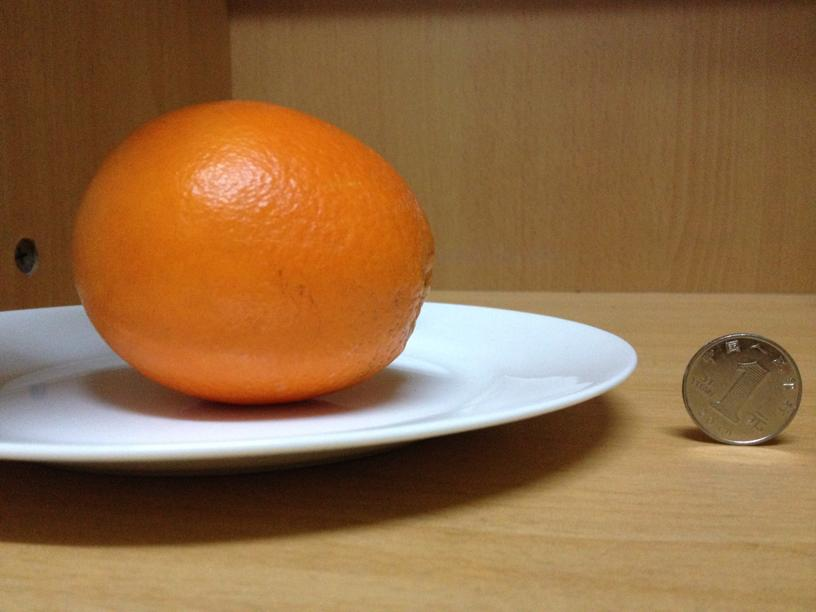coin: (682, 331, 802, 445)
orange: (62, 97, 432, 402)
